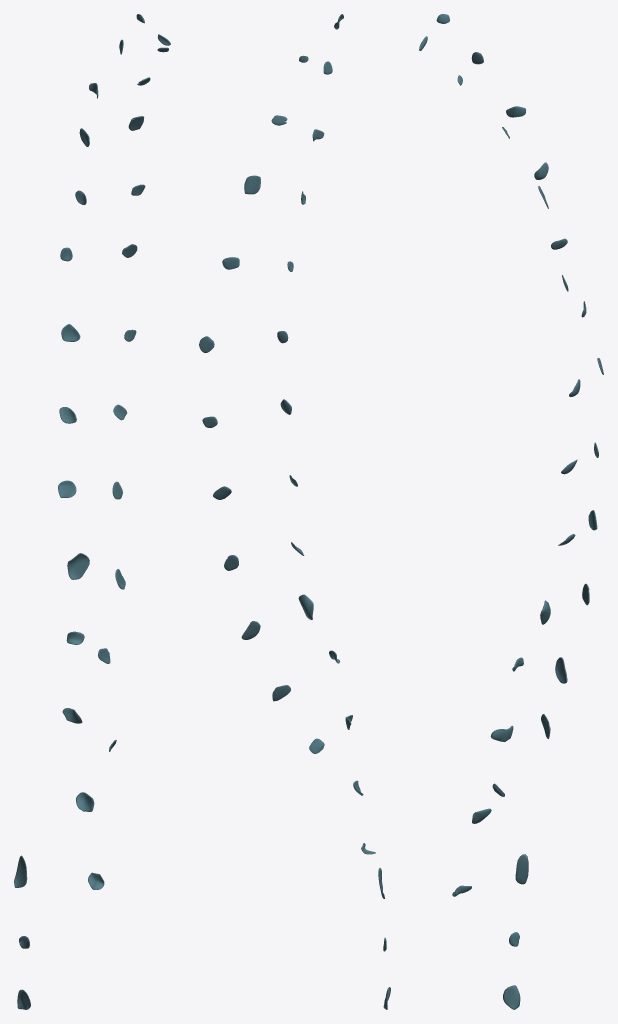
The model's file is Longissimus_thoracis-Thoracic_insertions.l_Generated_Mesh_From_.glb.
The picture shows the model from 3 angles, left to right: view 1: azimuth 30°, elevation 25°; view 2: azimuth 150°, elevation 25°; view 3: azimuth 270°, elevation 25°; orthographic projection. The views are drawn at different scales.
Visible parts, largest first — view 1: Longissimus_thoracis-Thoracic_insertions.l_Generated_Mesh_Fr; view 2: Longissimus_thoracis-Thoracic_insertions.l_Generated_Mesh_Fr; view 3: Longissimus_thoracis-Thoracic_insertions.l_Generated_Mesh_Fr.
Part boxes in pixels (box(x1,y1,x2,y2)): Longissimus_thoracis-Thoracic_insertions.l_Generated_Mesh_Fr: box(14, 14, 170, 1009); Longissimus_thoracis-Thoracic_insertions.l_Generated_Mesh_Fr: box(199, 14, 390, 1009); Longissimus_thoracis-Thoracic_insertions.l_Generated_Mesh_Fr: box(419, 14, 603, 1009).
Size of the model in its own units: 0.0704 by 0.4227 by 0.0683.
